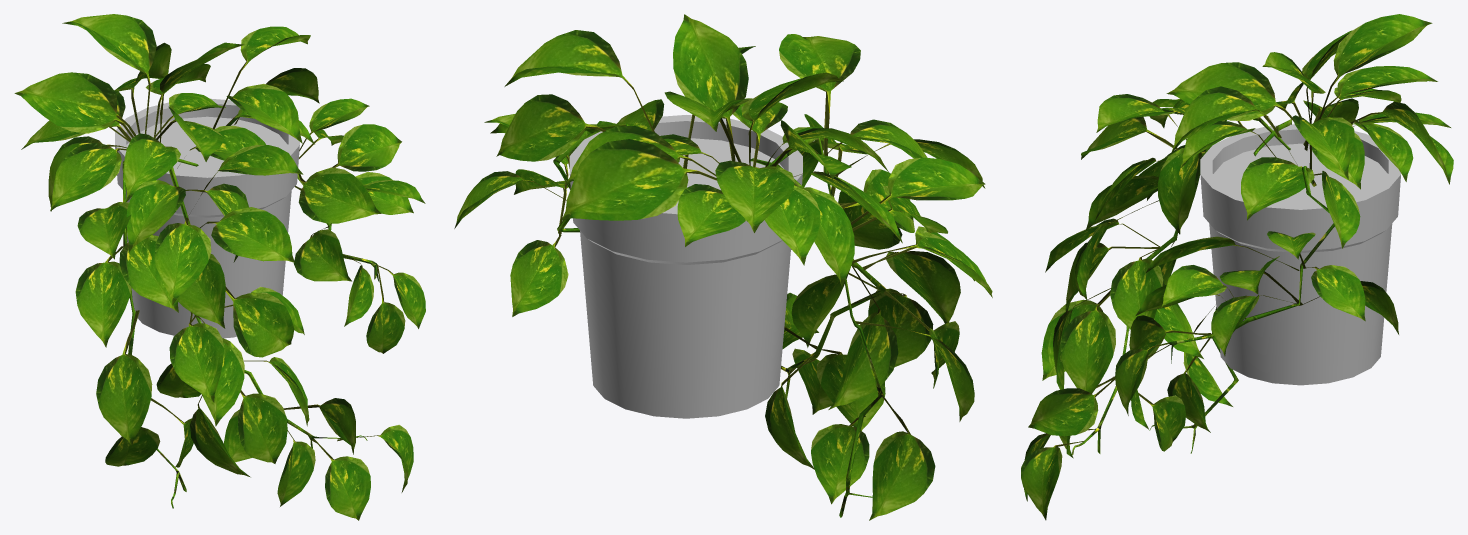
Rendered from Plant 3.fbx.
3 renders of one model, left to right at view 1: azimuth 30°, elevation 25°; view 2: azimuth 150°, elevation 25°; view 3: azimuth 270°, elevation 25°, orthographic. The views are drawn at different scales.
Visible parts, largest first — view 1: Plant 3; view 2: Plant 3; view 3: Plant 3.
Boxes of the visible parts, bbox=[...] form: Plant 3: bbox=[14, 14, 425, 520]; Plant 3: bbox=[454, 14, 992, 520]; Plant 3: bbox=[1021, 14, 1453, 520].
Size of the model in its own units: 43.72 by 46.82 by 42.16.
